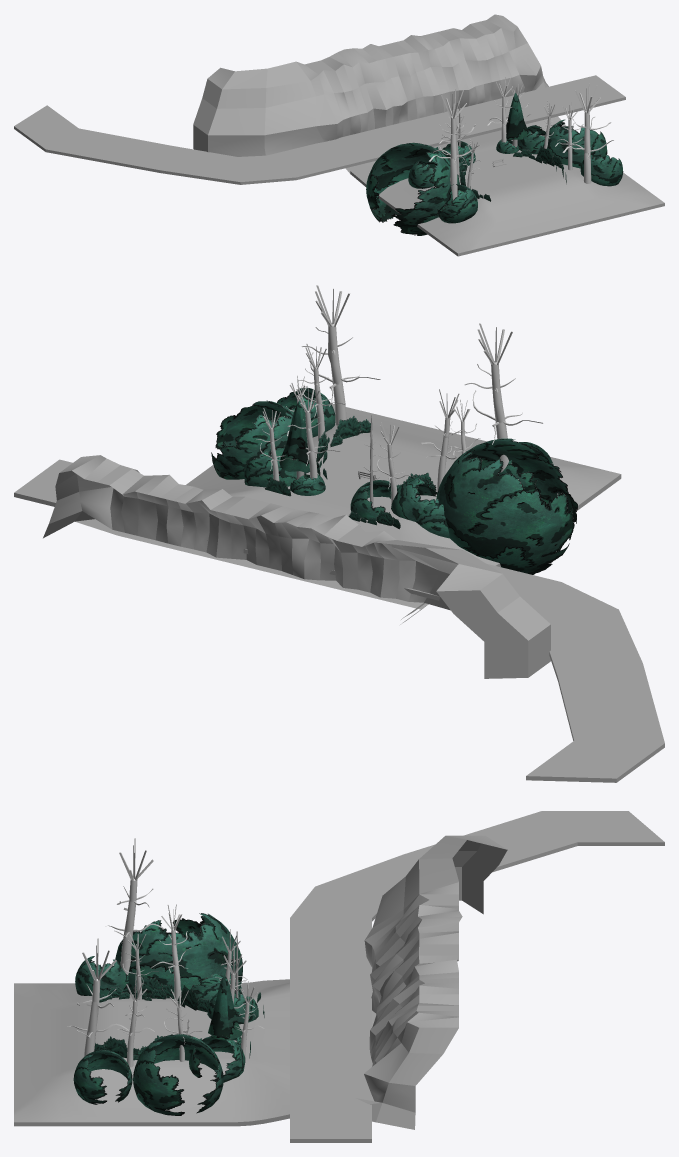
File: Fbx_Env_ParkScene3_PV_V2.fbx
The picture shows the model from 3 angles, top to bottom: view 1: azimuth 30°, elevation 25°; view 2: azimuth 150°, elevation 25°; view 3: azimuth 270°, elevation 25°; orthographic projection. The views are drawn at different scales.
Parts seen in each view (by area): view 1: Rock_Base, pCube9, Park_ground, pSphere5, pSphere1, Scotch_pine6, pSphere4, pSphere3, Scotch_pine7, pCylinder15, pSphere2, pSphere6 (+2 smaller); view 2: Rock_Base, pCube9, Park_ground, pSphere5, pSphere1, Scotch_pine7, Scotch_pine6, pCylinder15, pSphere7, pSphere2, pSphere10, pSphere3 (+4 smaller); view 3: pCube9, Park_ground, Rock_Base, pSphere5, pSphere1, pSphere3, Scotch_pine6, pSphere4, pCylinder15, Scotch_pine7, pSphere2, Scotch_pine2 (+3 smaller).
Part boxes in pixels (box(x1,y1,x2,y2)): Rock_Base: box(193, 14, 548, 156); pCube9: box(14, 75, 625, 184); Park_ground: box(345, 116, 664, 256); pSphere5: box(366, 142, 459, 235); pSphere1: box(543, 119, 607, 168); Scotch_pine6: box(429, 88, 480, 200); pSphere4: box(437, 184, 477, 223); pSphere3: box(580, 151, 623, 186); Scotch_pine7: box(562, 83, 613, 183); pCylinder15: box(506, 93, 528, 139); pSphere2: box(517, 125, 545, 154); pSphere6: box(408, 161, 433, 188); Rock_Base: box(43, 455, 550, 677); pCube9: box(14, 459, 664, 782); Park_ground: box(75, 403, 621, 678); pSphere5: box(436, 438, 577, 574); pSphere1: box(211, 400, 293, 479); Scotch_pine7: box(301, 285, 380, 425); Scotch_pine6: box(464, 323, 542, 472); pCylinder15: box(279, 400, 318, 472); pSphere7: box(391, 477, 438, 521); pSphere2: box(244, 445, 306, 487); pSphere10: box(350, 480, 398, 520); pSphere3: box(277, 387, 335, 437); pCube9: box(290, 811, 664, 1142); Park_ground: box(14, 850, 507, 1126); Rock_Base: box(355, 835, 507, 1129); pSphere5: box(115, 913, 242, 997); pSphere1: box(133, 1034, 223, 1115); pSphere3: box(73, 1050, 132, 1104); Scotch_pine6: box(105, 838, 164, 975); pSphere4: box(75, 956, 128, 996); pCylinder15: box(208, 974, 242, 1039); Scotch_pine7: box(67, 938, 128, 1056); pSphere2: box(189, 1035, 245, 1082); Scotch_pine2: box(151, 904, 191, 1000).
Bounding box in the file's own units: 9.46 × 2.7 × 7.93.
